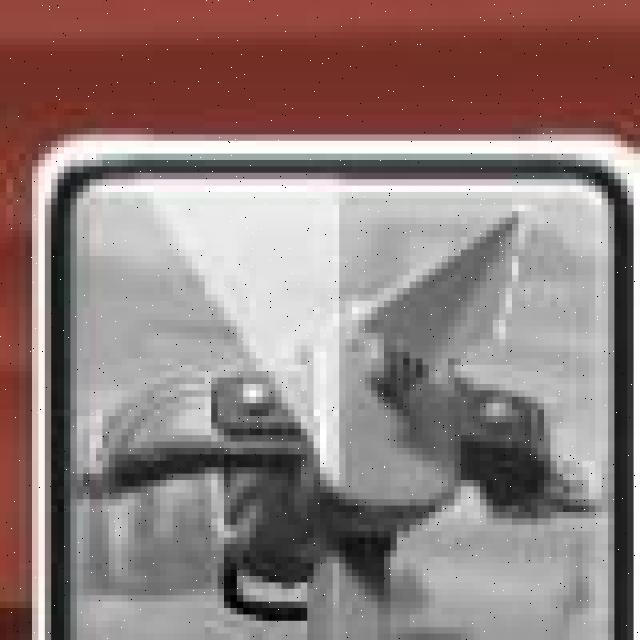X_Bow: (34, 144, 640, 640)
